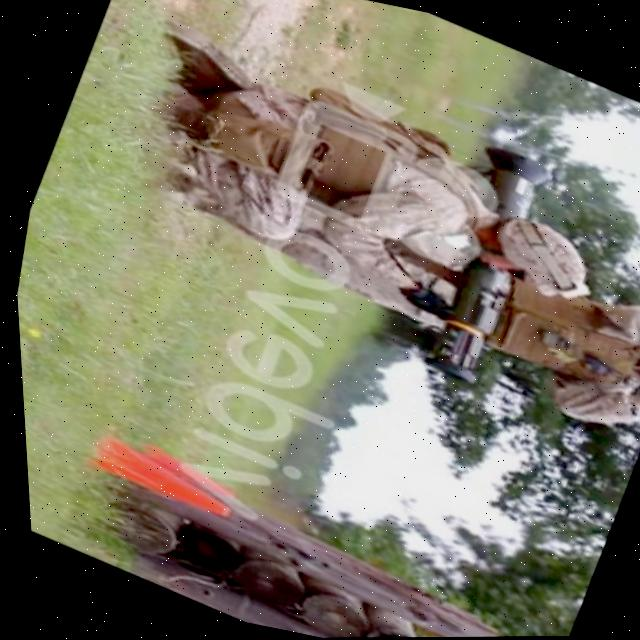rocket: (389, 131, 573, 398)
